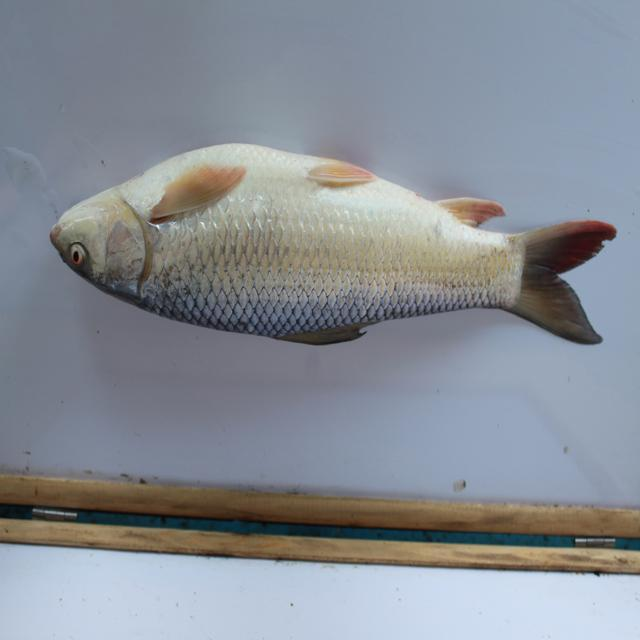Mori: (48, 117, 627, 373)
